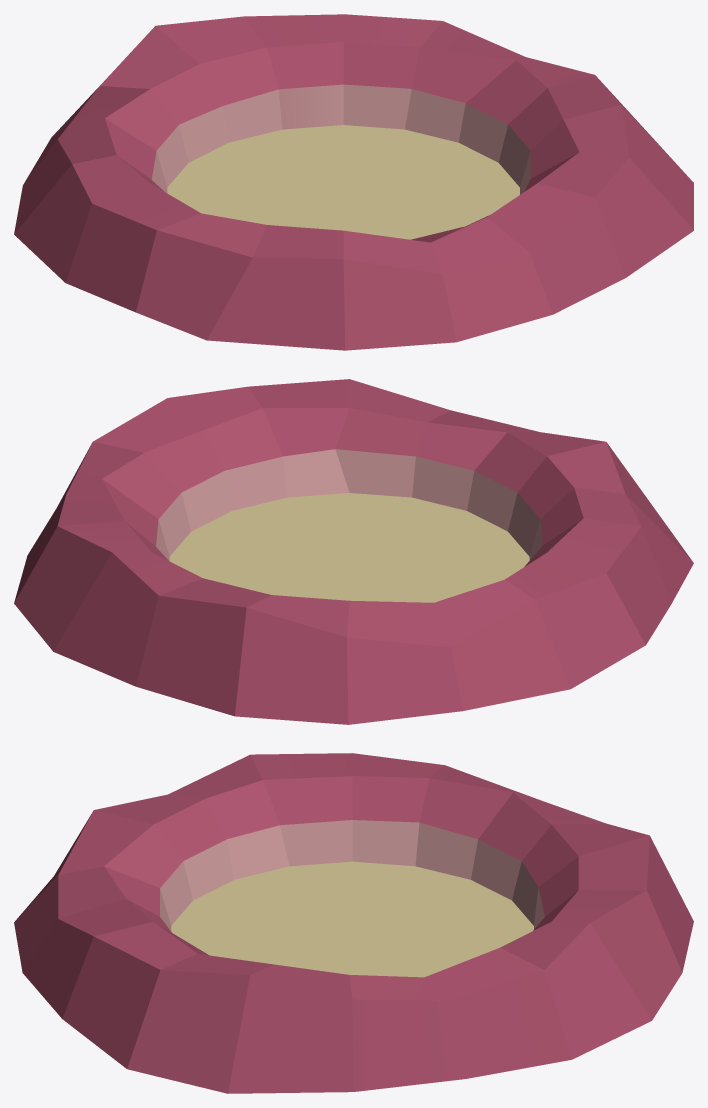
File: GroundHole.FBX
3 renders of one model, top to bottom at view 1: azimuth 30°, elevation 25°; view 2: azimuth 150°, elevation 25°; view 3: azimuth 270°, elevation 25°, orthographic. The views are drawn at different scales.
Parts seen in each view (by area): view 1: GroundHole; view 2: GroundHole; view 3: GroundHole.
Part boxes in pixels (x1,y1,x2,y2): GroundHole: (14, 14, 693, 350); GroundHole: (14, 379, 693, 724); GroundHole: (14, 753, 693, 1093).
Bounding box in the file's own units: 2.69 × 0.3959 × 2.68.
1 material, 1 textured.
